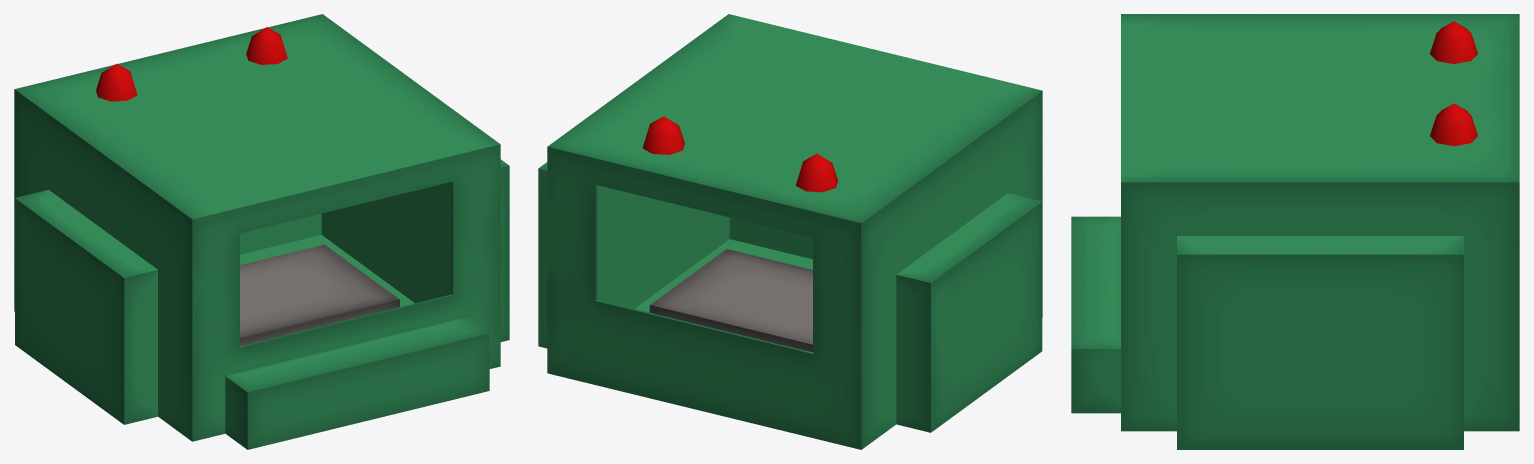
The model's file is dg-ic-Machine.glb.
The picture shows the model from 3 angles, left to right: view 1: azimuth 30°, elevation 25°; view 2: azimuth 150°, elevation 25°; view 3: azimuth 270°, elevation 25°; orthographic projection. The views are drawn at different scales.
Parts seen in each view (by area): view 1: dg-ic-Machine; view 2: dg-ic-Machine; view 3: dg-ic-Machine.
Part boxes in pixels (<box>): dg-ic-Machine: <box>14,14,509,449</box>; dg-ic-Machine: <box>538,14,1042,449</box>; dg-ic-Machine: <box>1071,14,1519,449</box>.
Bounding box in the file's own units: 2.44 × 1.56 × 2.25.
1 material, 1 textured.
